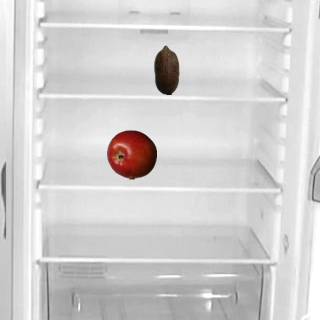Apple Braeburn: (106, 129, 156, 179)
Nut Pecan: (141, 44, 191, 94)
